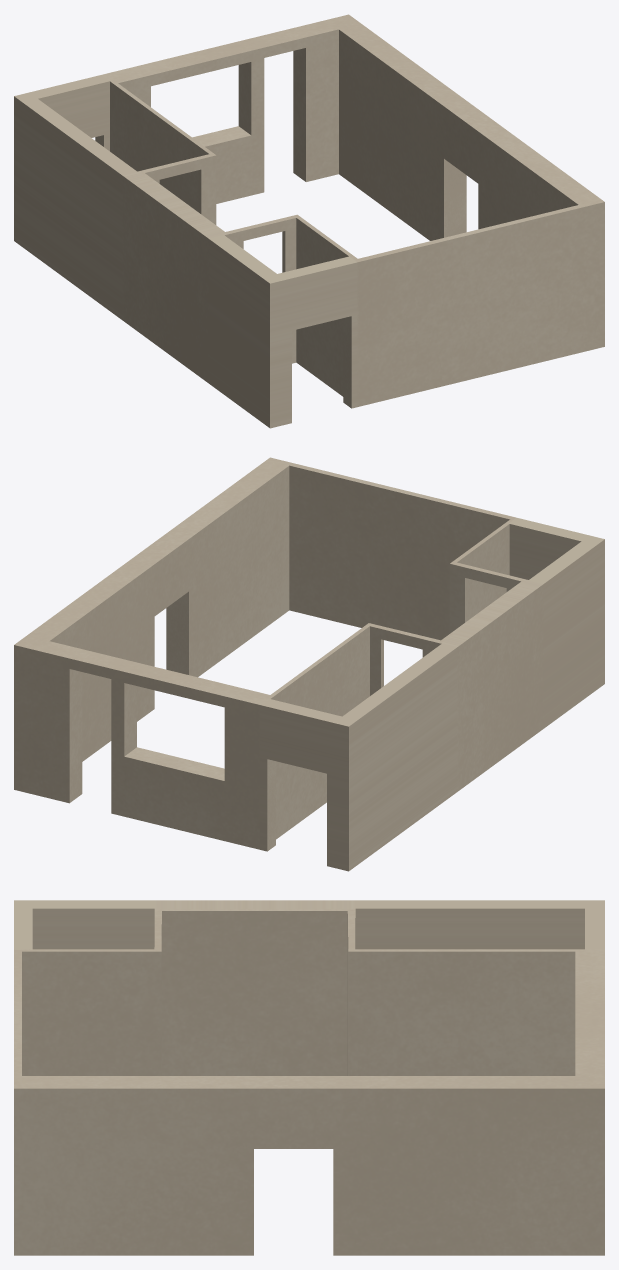
File: livingroom_parts.fbx
The picture shows the model from 3 angles, top to bottom: view 1: azimuth 30°, elevation 25°; view 2: azimuth 150°, elevation 25°; view 3: azimuth 270°, elevation 25°; orthographic projection. The views are drawn at different scales.
Parts seen in each view (by area): view 1: room_livingroom_hall_1, room_livingroom_hall_2; view 2: room_livingroom_hall_1, room_livingroom_hall_2; view 3: room_livingroom_hall_1, room_livingroom_hall_2.
Boxes of the visible parts, x1,y1,x2,y2 form: room_livingroom_hall_1: (14,73,604,428); room_livingroom_hall_2: (107,14,538,240); room_livingroom_hall_1: (205,457,604,871); room_livingroom_hall_2: (14,505,268,848); room_livingroom_hall_1: (14,900,604,1255); room_livingroom_hall_2: (165,952,604,1255).
Size of the model in its own units: 8.47 by 3.5 by 11.22.
Materials: 1 (1 with a texture image).
